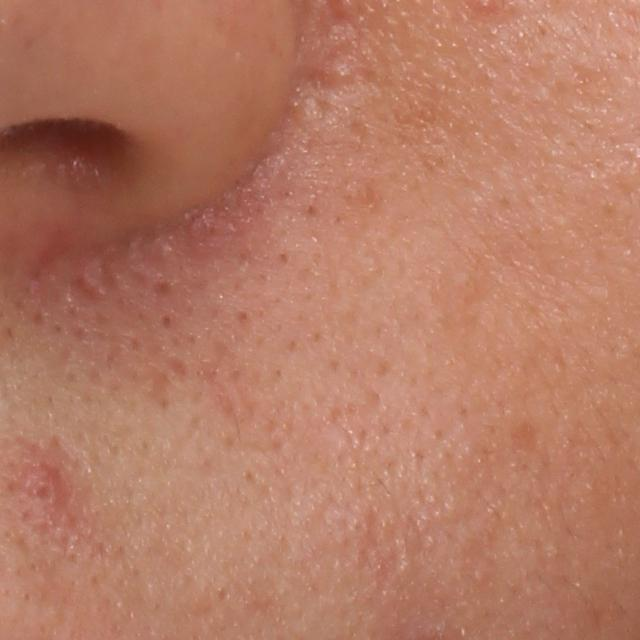atrophic_scar: (70, 263, 116, 309)
papule: (20, 450, 79, 521)
